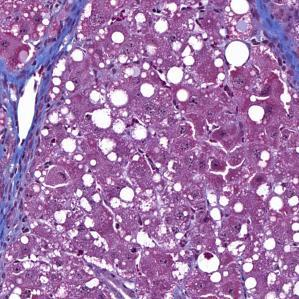fibrosis: (0, 31, 74, 103), (249, 0, 298, 84)
